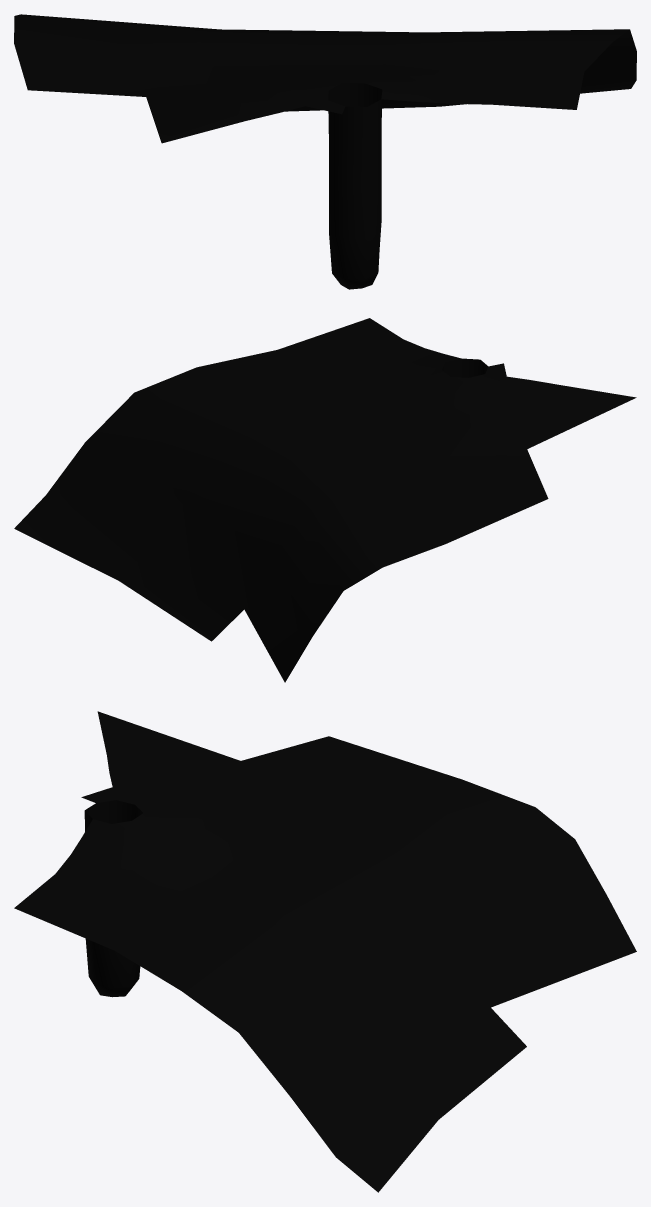
Rendered from HTOWN01_TREESHADOWS25.fbx.
3 renders of one model, top to bottom at view 1: azimuth 30°, elevation 25°; view 2: azimuth 150°, elevation 25°; view 3: azimuth 270°, elevation 25°, orthographic. The views are drawn at different scales.
Visible parts, largest first — view 1: HTOWN01_TREESHADOWS25; view 2: HTOWN01_TREESHADOWS25; view 3: HTOWN01_TREESHADOWS25.
Boxes of the visible parts, bbox=[...] form: HTOWN01_TREESHADOWS25: bbox=[14, 14, 636, 289]; HTOWN01_TREESHADOWS25: bbox=[14, 318, 636, 682]; HTOWN01_TREESHADOWS25: bbox=[14, 711, 636, 1192].
Size of the model in its own units: 208412 by 65436 by 187192.
Materials: 1 (1 with a texture image).
